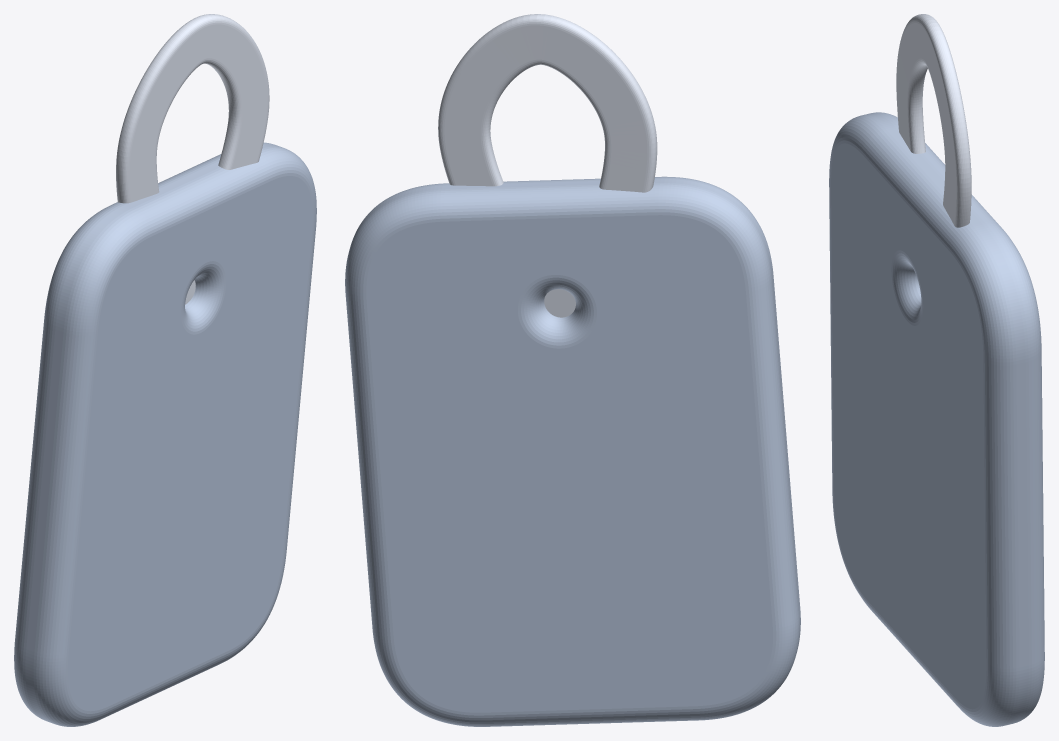
Rendered from tag-silver.glb.
3 views of the same model, side by side, from view 1: azimuth 30°, elevation 25°; view 2: azimuth 150°, elevation 25°; view 3: azimuth 270°, elevation 25° (orthographic). The views are drawn at different scales.
Parts seen in each view (by area): view 1: tag, ribbon; view 2: tag, ribbon; view 3: tag, ribbon.
Part boxes in pixels (x1,y1,x2,y2): tag: (14,142,316,726); ribbon: (116,14,269,304); tag: (345,176,800,726); ribbon: (438,14,657,317); tag: (829,112,1044,726); ribbon: (896,14,971,227).
Size of the model in its own units: 0.8185 by 1.45 by 0.4182.
